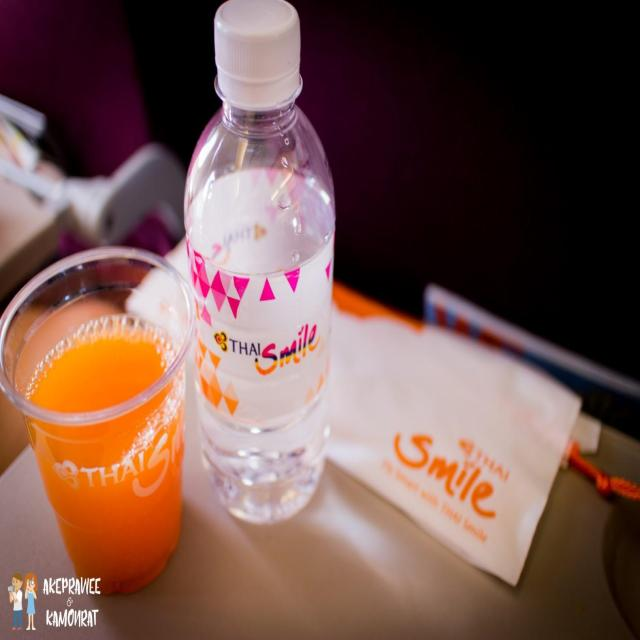bottle: (176, 0, 342, 533)
